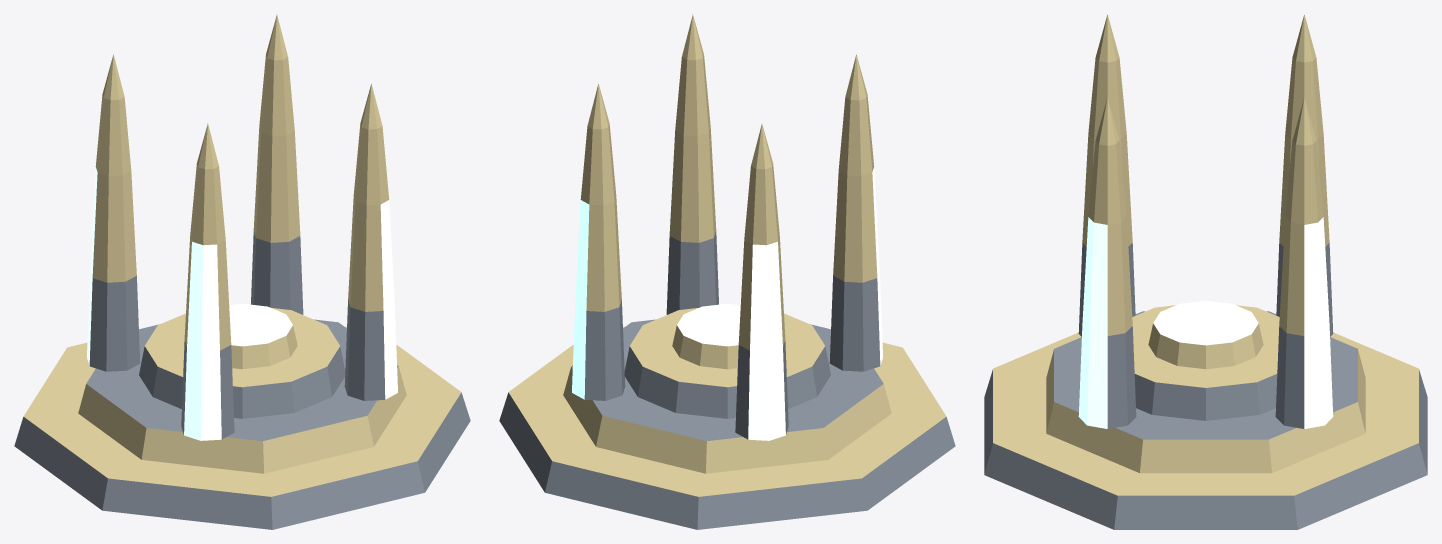
Rendered from ancient_monument_citadel.glb.
3 views of the same model, side by side, from view 1: azimuth 30°, elevation 25°; view 2: azimuth 150°, elevation 25°; view 3: azimuth 270°, elevation 25° (orthographic). The views are drawn at different scales.
Visible parts, largest first — view 1: Monument_Citadel_Hero; view 2: Monument_Citadel_Hero; view 3: Monument_Citadel_Hero.
Boxes of the visible parts, x1,y1,x2,y2 form: Monument_Citadel_Hero: (14,14,470,529); Monument_Citadel_Hero: (499,14,955,529); Monument_Citadel_Hero: (984,14,1427,529).
Size of the model in its own units: 18.48 by 17.5 by 18.48.
